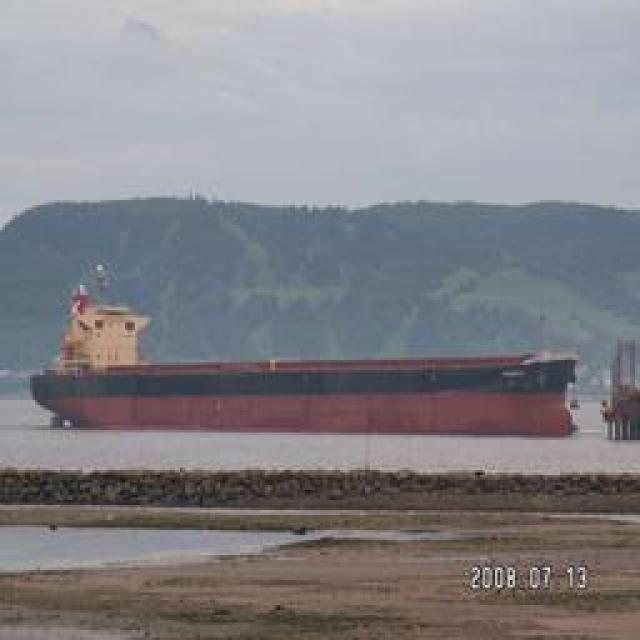CIV_Ship: (32, 314, 582, 438)
